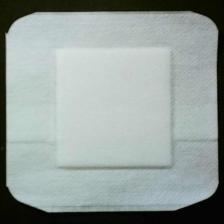Dressing: (6, 9, 220, 214)
